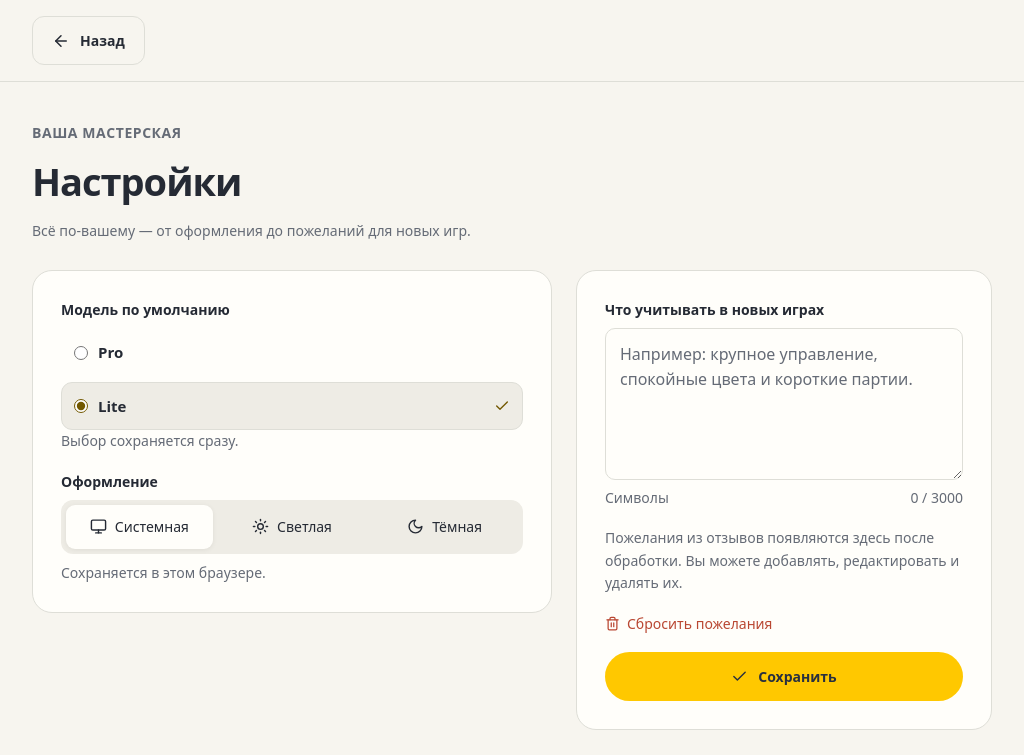
Test: saves the default immediately in settings without saving the draft notes
The width and height of the screenshot is (1024, 755).
Replace the text in the text box labelled "Что учитывать в новых играх" with "Черновик" at (784, 404), box [605, 328, 963, 480]
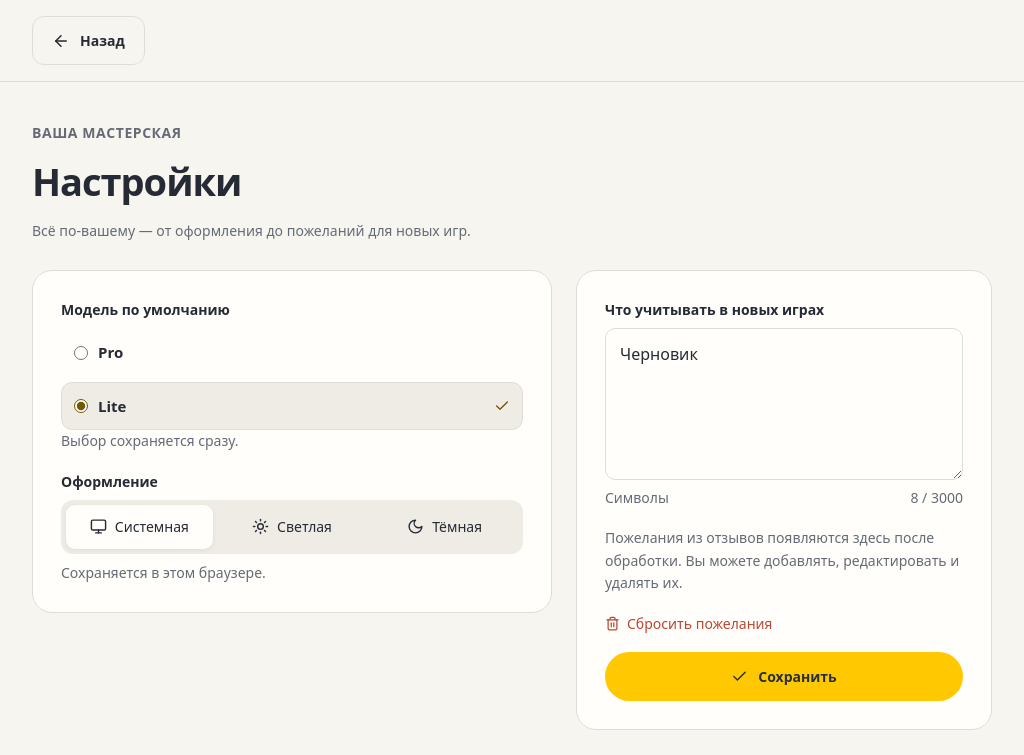
Click the radio button labelled "Pro" at (81, 353), box [74, 346, 88, 360]
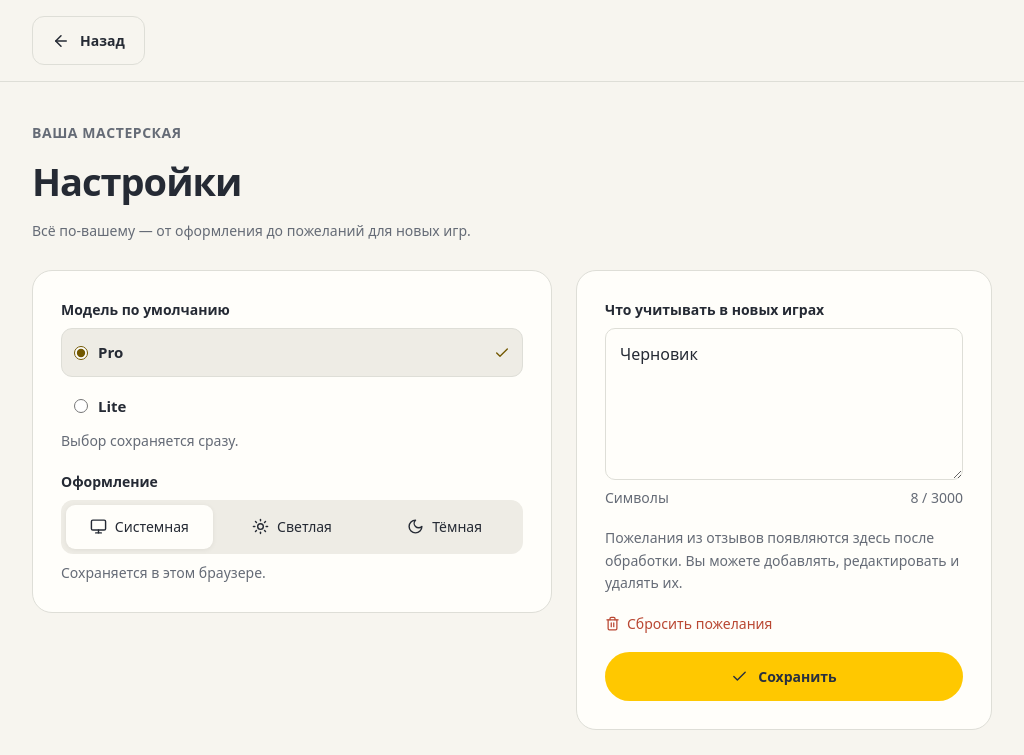
Check: the radio button labelled "Pro" is checked, box [74, 346, 88, 360]
Click the button "Сохранить" at (784, 676), box [605, 652, 963, 701]
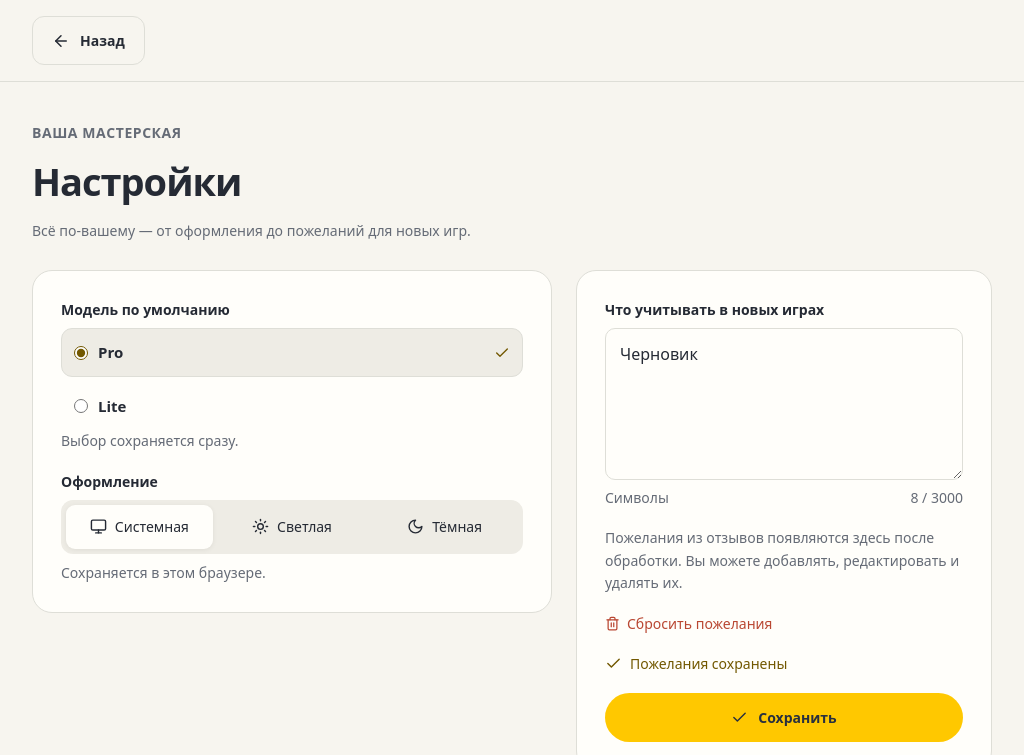
Check: the radio button labelled "Pro" is checked, box [74, 346, 88, 360]
Check: the text "Пожелания сохранены" is shown, box [605, 654, 787, 673]
